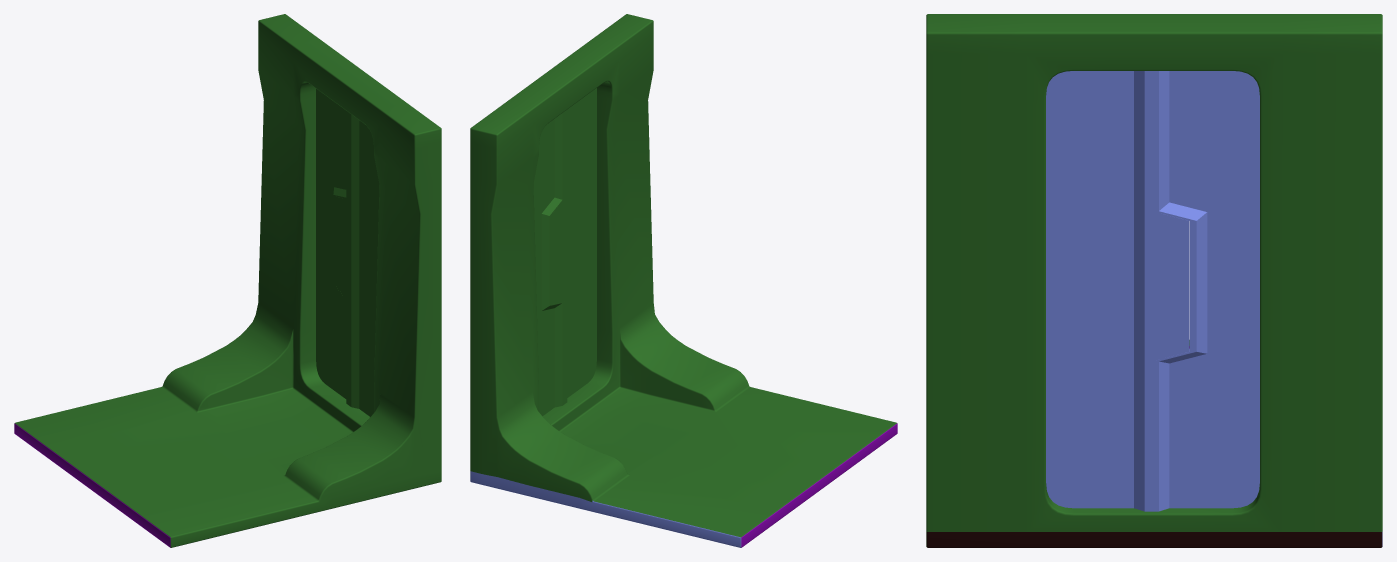
3 renders of one model, left to right at view 1: azimuth 30°, elevation 25°; view 2: azimuth 150°, elevation 25°; view 3: azimuth 270°, elevation 25°, orthographic. The views are drawn at different scales.
Parts seen in each view (by area): view 1: P009_02, P009_00, P009_01; view 2: P009_02, P009_00, P009_01; view 3: P009_02, P009_00, P009_01.
Boxes of the visible parts, bbox=[...] form: P009_02: bbox=[14, 14, 441, 547]; P009_00: bbox=[336, 113, 379, 416]; P009_01: bbox=[316, 89, 348, 405]; P009_02: bbox=[470, 14, 897, 547]; P009_00: bbox=[552, 88, 596, 403]; P009_01: bbox=[533, 111, 564, 416]; P009_02: bbox=[926, 14, 1382, 547]; P009_00: bbox=[1046, 71, 1189, 511]; P009_01: bbox=[1151, 71, 1259, 511].
Bounding box in the file's own units: 200 × 249 × 200.
